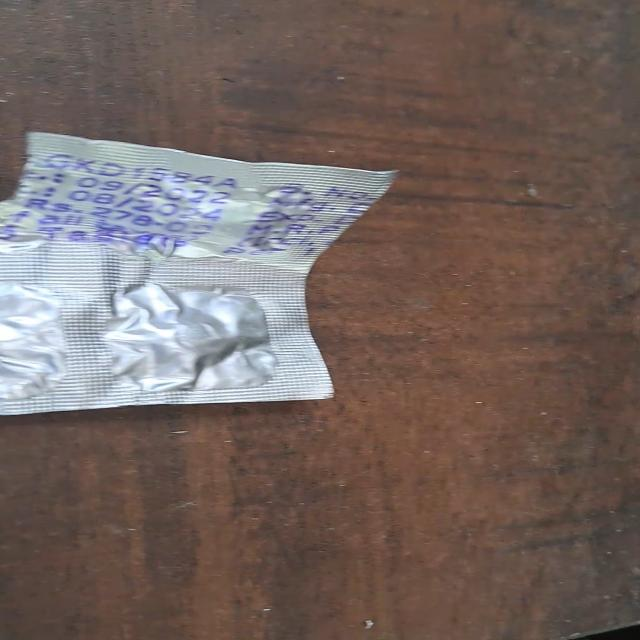Anorganik: (3, 124, 403, 418)
